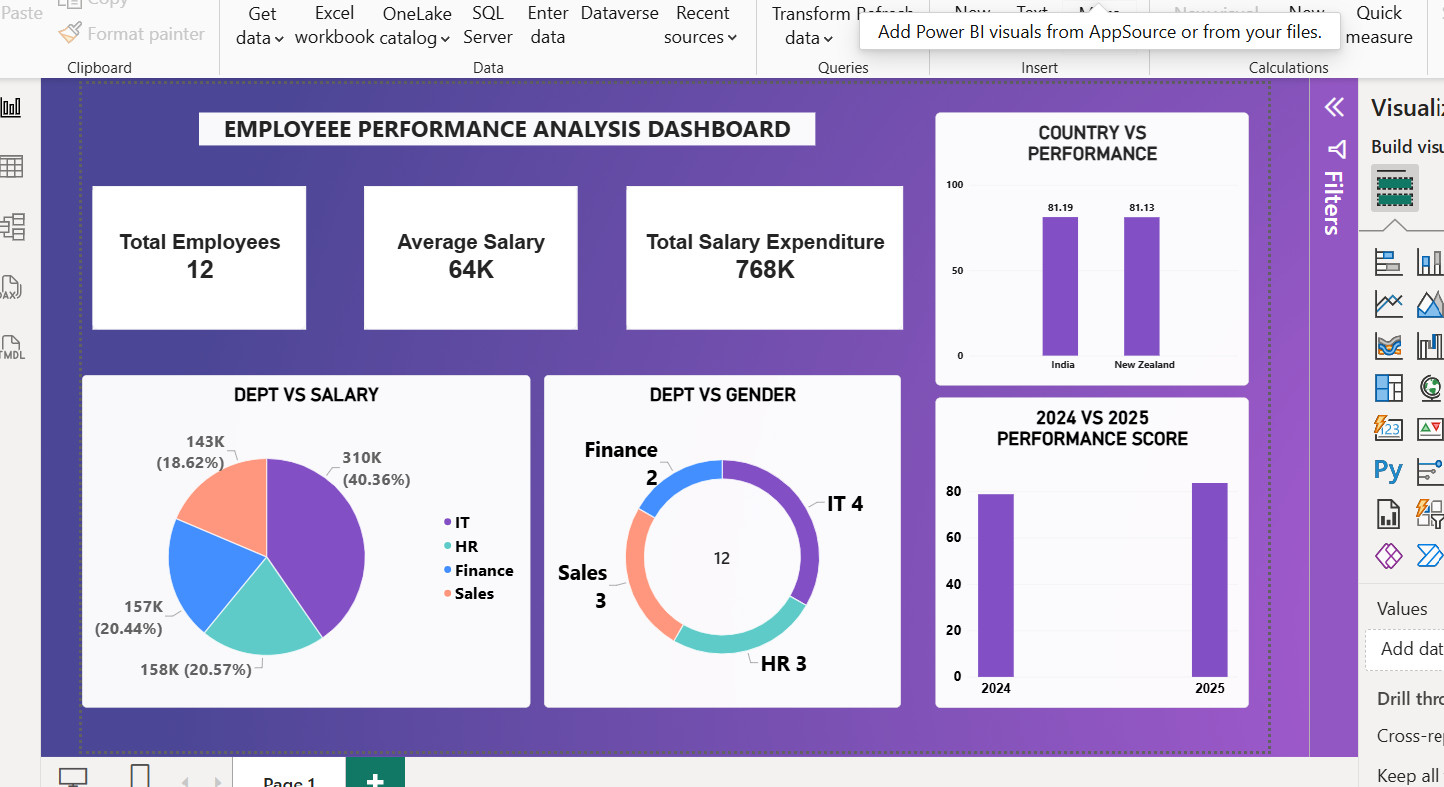

This screenshot's page, from the dashboard's own definition file:
{"tool":"powerbi","page":{"name":"Page 1","canvas":[1920,1080],"ordinal":0},"visuals":[{"type":"pieChart","title":"DEPT VS SALARY","fields":{"Category":["employee_performance_project departments.department_name"],"Y":["Sum(employee_performance_project employees.salary)"]},"box":[0,471.2,725.7,538.6],"z":0},{"type":"cardVisual","fields":{"Data":["employee_performance_project departments.Total Employees"]},"box":[17,165.2,345.8,232.4],"z":1000},{"type":"cardVisual","fields":{"Data":["employee_performance_project departments.Average Salary"]},"box":[456.6,165.2,345.8,232.4],"z":2000},{"type":"cardVisual","fields":{"Data":["employee_performance_project departments.Total Salary Expenditure"]},"box":[881.7,165.2,447.9,232.4],"z":3000},{"type":"donutChart","title":"DEPT VS GENDER","fields":{"Category":["employee_performance_project departments.department_name"],"Y":["CountNonNull(employee_performance_project employees.gender)"]},"box":[748.1,471.2,578.3,538.6],"z":4000},{"type":"columnChart","title":"COUNTRY VS PERFORMANCE","fields":{"Category":["employee_performance_project employees.country"],"Y":["Avg(employee_performance_project performance_reviews.performance_score)"]},"box":[1382,46.1,507.6,442],"z":5000},{"type":"columnChart","title":"2024 VS 2025 PERFORMANCE SCORE","fields":{"Category":["employee_performance_project performance_reviews.review_date.Variation.Date Hierarchy.Year"],"Y":["Avg(employee_performance_project performance_reviews.performance_score)"]},"box":[1382,507.6,507.6,502.8],"z":6000},{"type":"textbox","box":[189.4,46.1,998.3,53.4],"z":6001}]}

Visuals, with their boxes on the page's 1920x1080 design canvas (x1, y1, x2, y2). These are canvas units, not pixel positions in the 1444x787 screenshot, which may show the page scaled, cropped or inside an application window:
"DEPT VS SALARY" pieChart: region(0, 471, 726, 1010)
cardVisual - employee_performance_project departments.Total Employees: region(17, 165, 363, 398)
cardVisual - employee_performance_project departments.Average Salary: region(457, 165, 802, 398)
cardVisual - employee_performance_project departments.Total Salary Expenditure: region(882, 165, 1330, 398)
"DEPT VS GENDER" donutChart: region(748, 471, 1326, 1010)
"COUNTRY VS PERFORMANCE" columnChart: region(1382, 46, 1890, 488)
"2024 VS 2025 PERFORMANCE SCORE" columnChart: region(1382, 508, 1890, 1010)
textbox: region(189, 46, 1188, 100)
